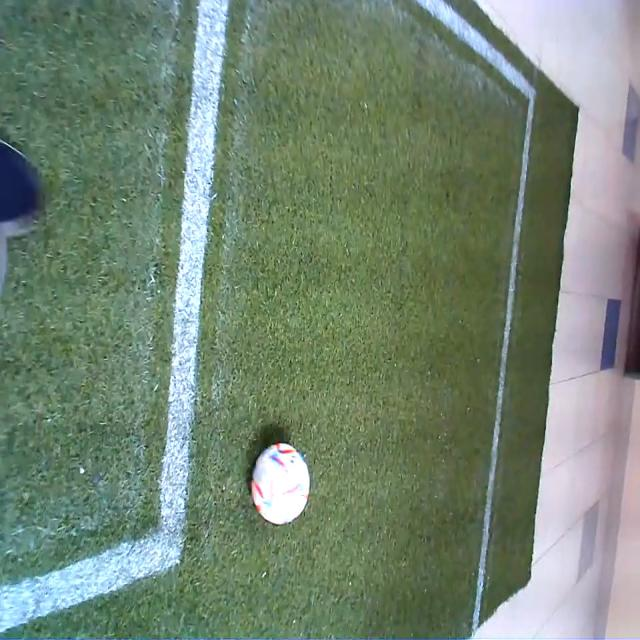ball: (250, 441, 310, 525)
